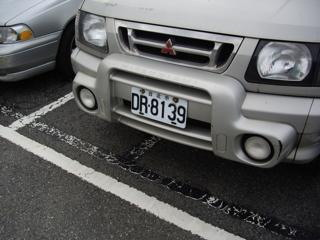plate: (128, 86, 189, 130)
